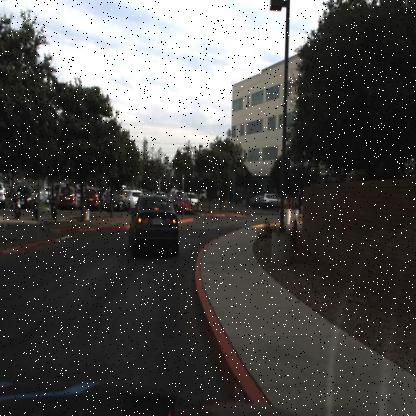car: (124, 186, 183, 261), (53, 182, 78, 212), (98, 186, 125, 213), (165, 192, 193, 218), (101, 186, 125, 216), (13, 182, 36, 212), (256, 190, 286, 212), (79, 184, 101, 211), (172, 192, 192, 218), (258, 190, 284, 210), (187, 186, 201, 209), (196, 186, 208, 204), (0, 180, 8, 206)
